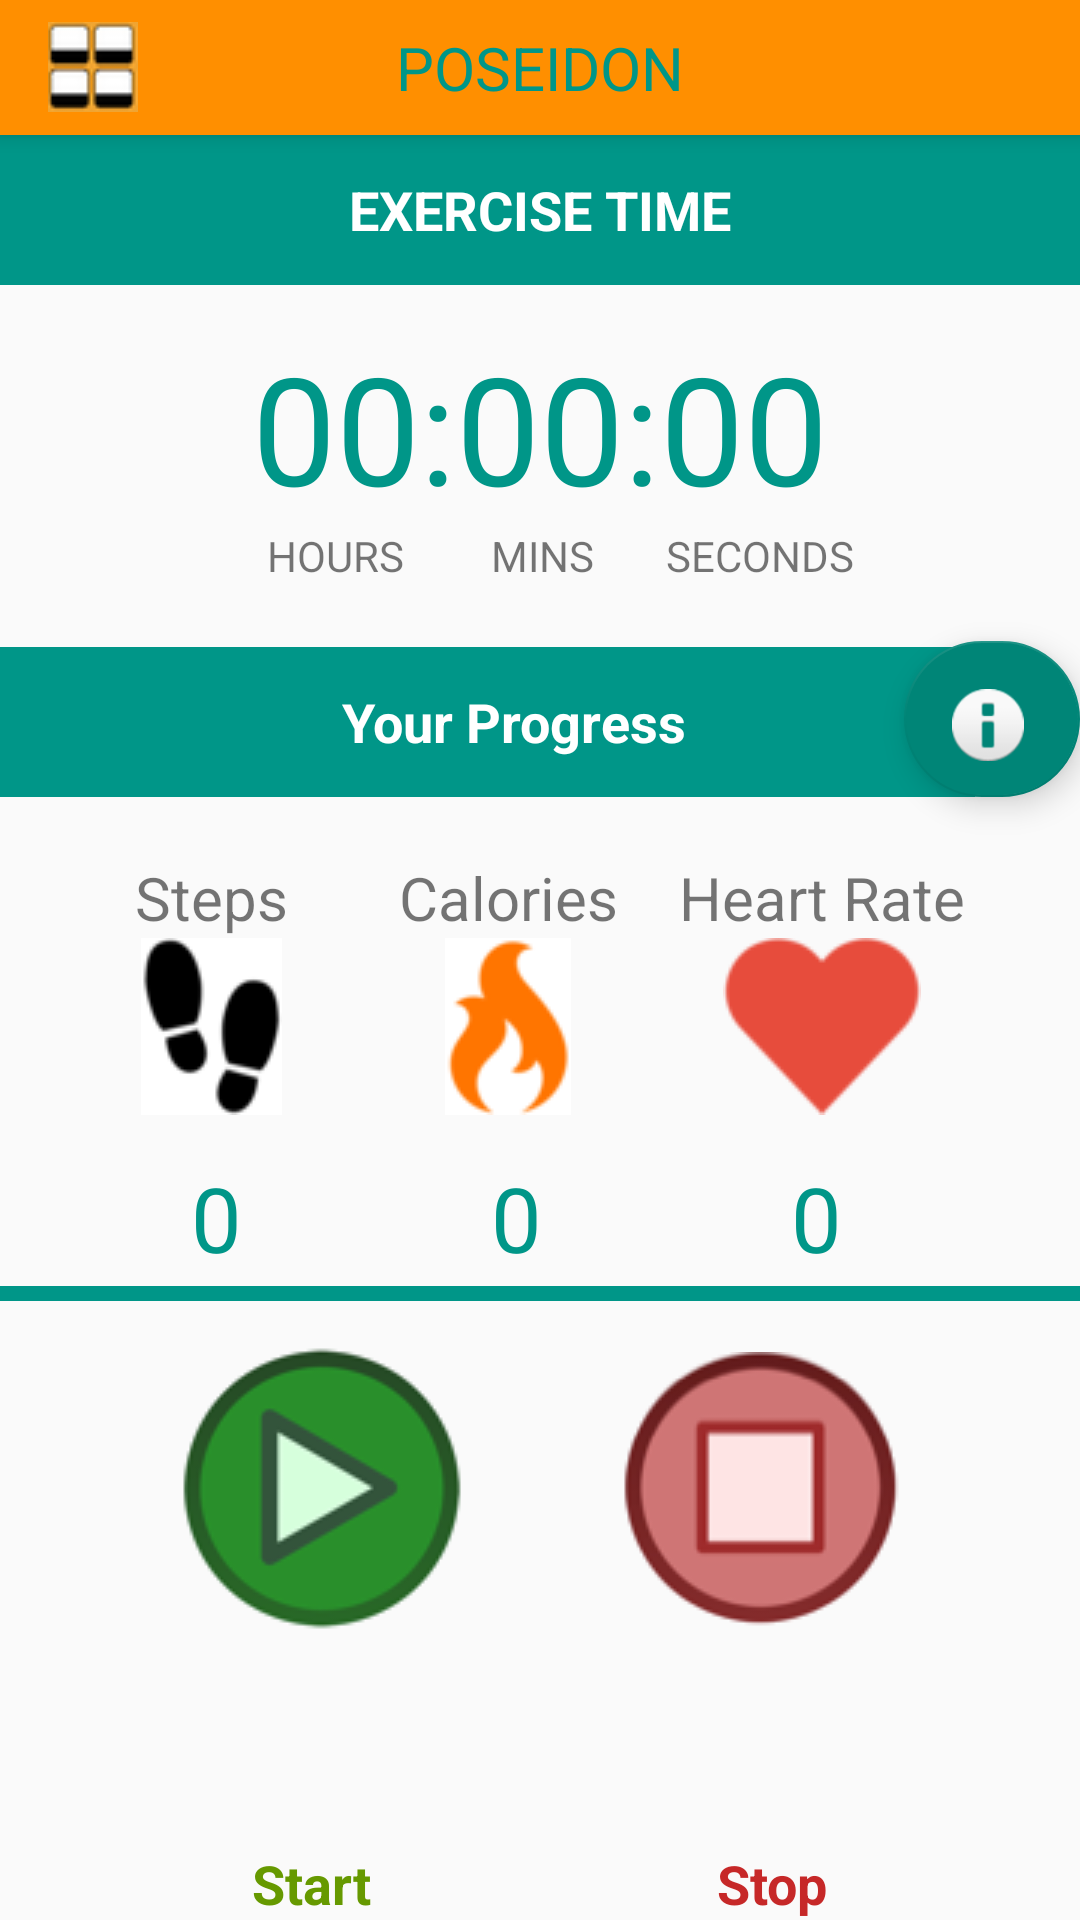

Icons on this 1080*1920 Android screen, each with its box as (x1, y1, x2, y2):
info: (904, 641, 1080, 797)
